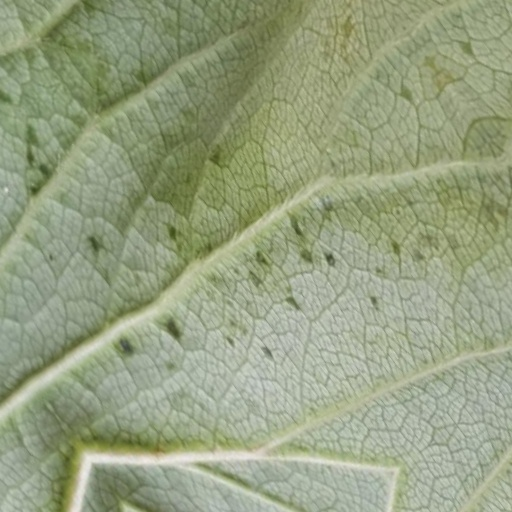Angular Leafspot: (70, 0, 502, 396)
